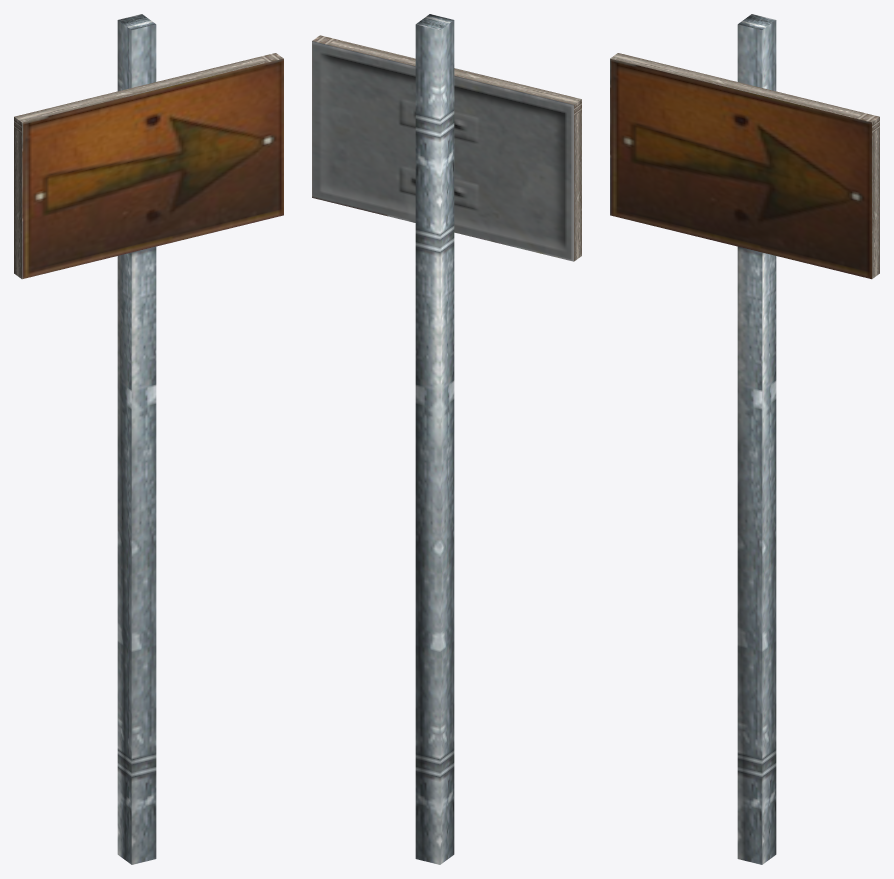
Rendered from Model_StreetSign_02.fbx.
The picture shows the model from 3 angles, left to right: view 1: azimuth 30°, elevation 25°; view 2: azimuth 150°, elevation 25°; view 3: azimuth 330°, elevation 25°; orthographic projection.
Visible parts, largest first — view 1: StreetSign_02; view 2: StreetSign_02; view 3: StreetSign_02.
Part boxes in pixels (x1,y1,x2,y2): StreetSign_02: (14, 14, 283, 864); StreetSign_02: (312, 14, 581, 864); StreetSign_02: (610, 14, 879, 864).
Bounding box in the file's own units: 68.94 × 210 × 10.5.
